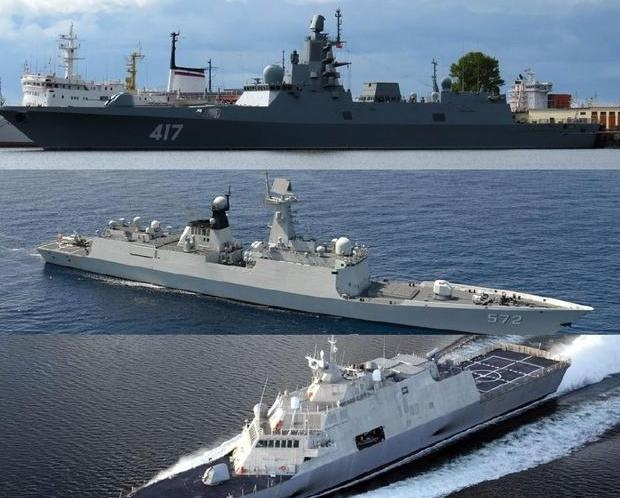warship: (3, 7, 616, 159), (30, 176, 597, 333), (120, 327, 579, 496)
